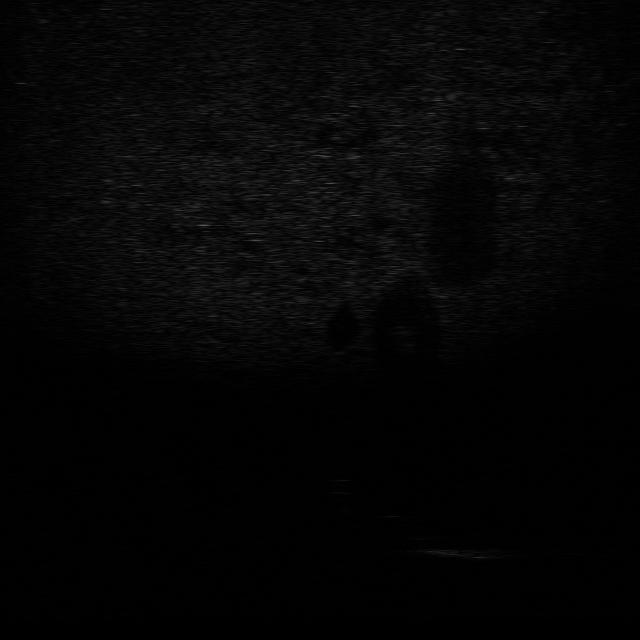ball: (321, 473, 361, 497)
metal bucket: (418, 541, 518, 564)
tyre: (376, 509, 446, 542)
